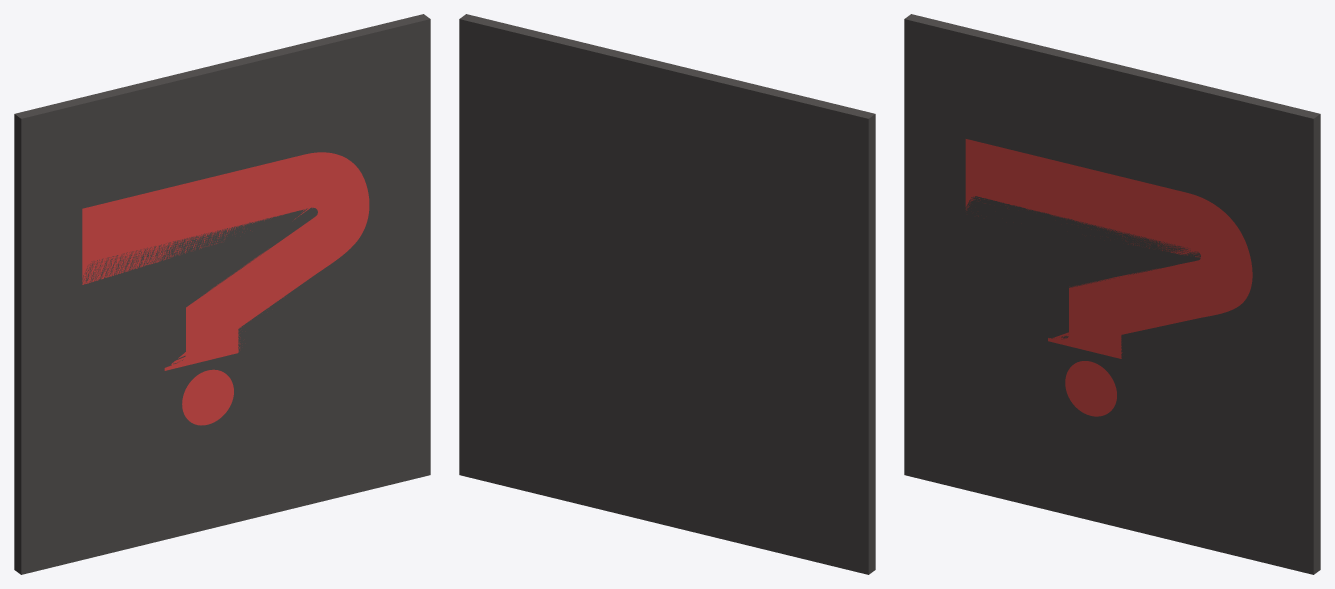
Rendered from Secrets.fbx.
The picture shows the model from 3 angles, left to right: view 1: azimuth 30°, elevation 25°; view 2: azimuth 150°, elevation 25°; view 3: azimuth 330°, elevation 25°; orthographic projection.
Parts seen in each view (by area): view 1: Cube.011, Cube.010, Cube.009, Cube.013, Cube.015, Cube.014; view 2: Cube.011, Cube.009, Cube.010, Cube.015, Cube.014, Cube.013; view 3: Cube.011, Cube.010, Cube.009, Cube.013, Cube.015, Cube.014.
Boxes of the visible parts, bbox=[...] form: Cube.011: bbox=[82, 14, 430, 367]; Cube.010: bbox=[124, 353, 368, 549]; Cube.009: bbox=[238, 242, 430, 489]; Cube.013: bbox=[14, 207, 317, 422]; Cube.015: bbox=[14, 349, 176, 574]; Cube.014: bbox=[14, 90, 130, 335]; Cube.011: bbox=[459, 14, 814, 330]; Cube.009: bbox=[459, 242, 677, 489]; Cube.010: bbox=[521, 353, 765, 549]; Cube.015: bbox=[713, 349, 875, 574]; Cube.014: bbox=[759, 90, 875, 335]; Cube.013: bbox=[651, 293, 875, 422]; Cube.011: bbox=[965, 37, 1320, 398]; Cube.010: bbox=[1007, 344, 1251, 559]; Cube.009: bbox=[1121, 321, 1320, 574]; Cube.013: bbox=[904, 170, 1200, 339]; Cube.015: bbox=[904, 310, 1059, 499]; Cube.014: bbox=[904, 14, 1013, 253].
Bounding box in the file's own units: 3.37 × 3.59 × 0.0985.
